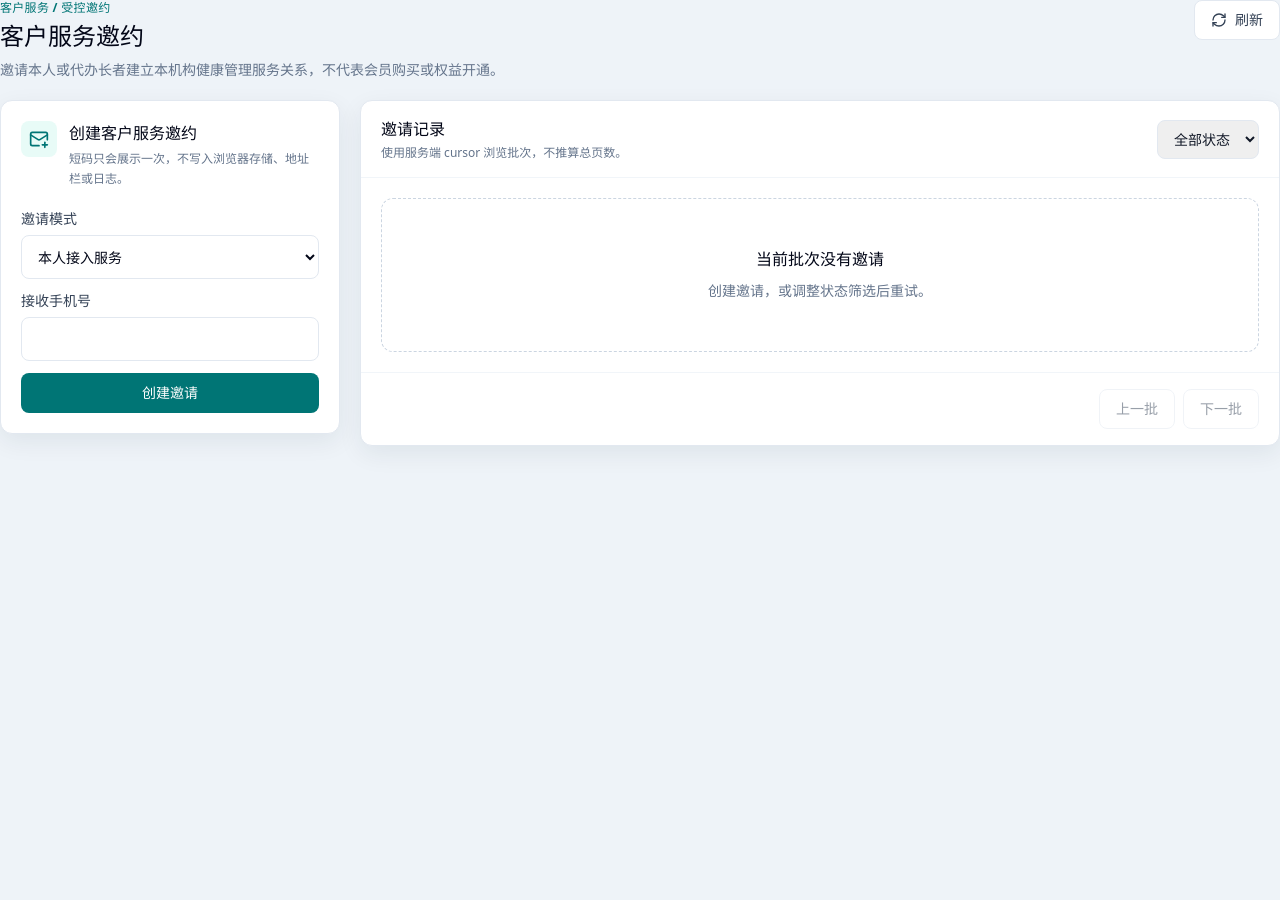
it: 机构客户服务邀约与服务接入 › 创建成功后短码仅在对话框内一次性展示并可用 Escape 清除
Expected: the heading "当前批次没有邀请" is shown, [756,248,884,270]
Type "18800000000" into the field labelled "接收手机号" at (170, 339), box [21,317,319,361]
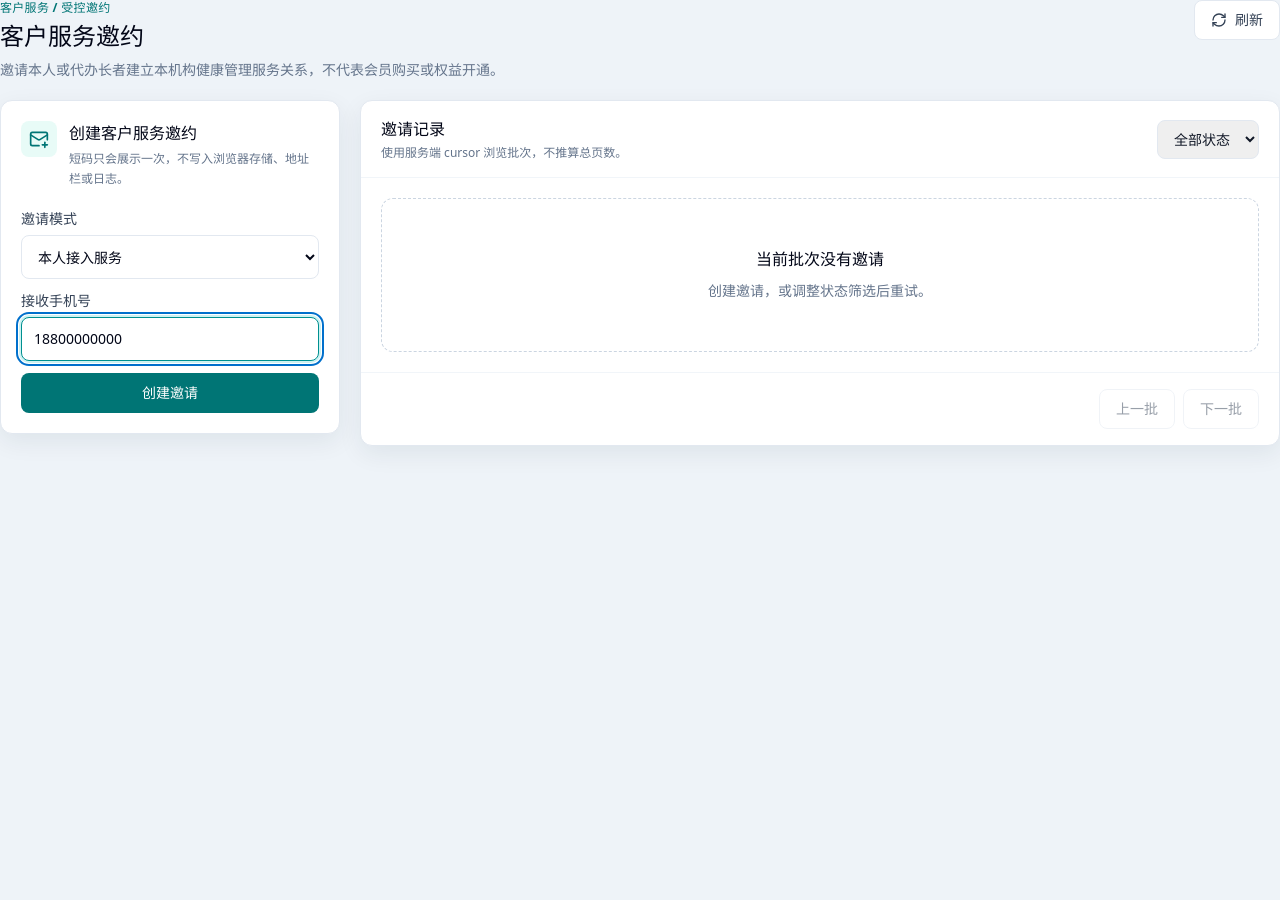
Click the button "创建邀请" at (170, 393), box [21,373,319,413]
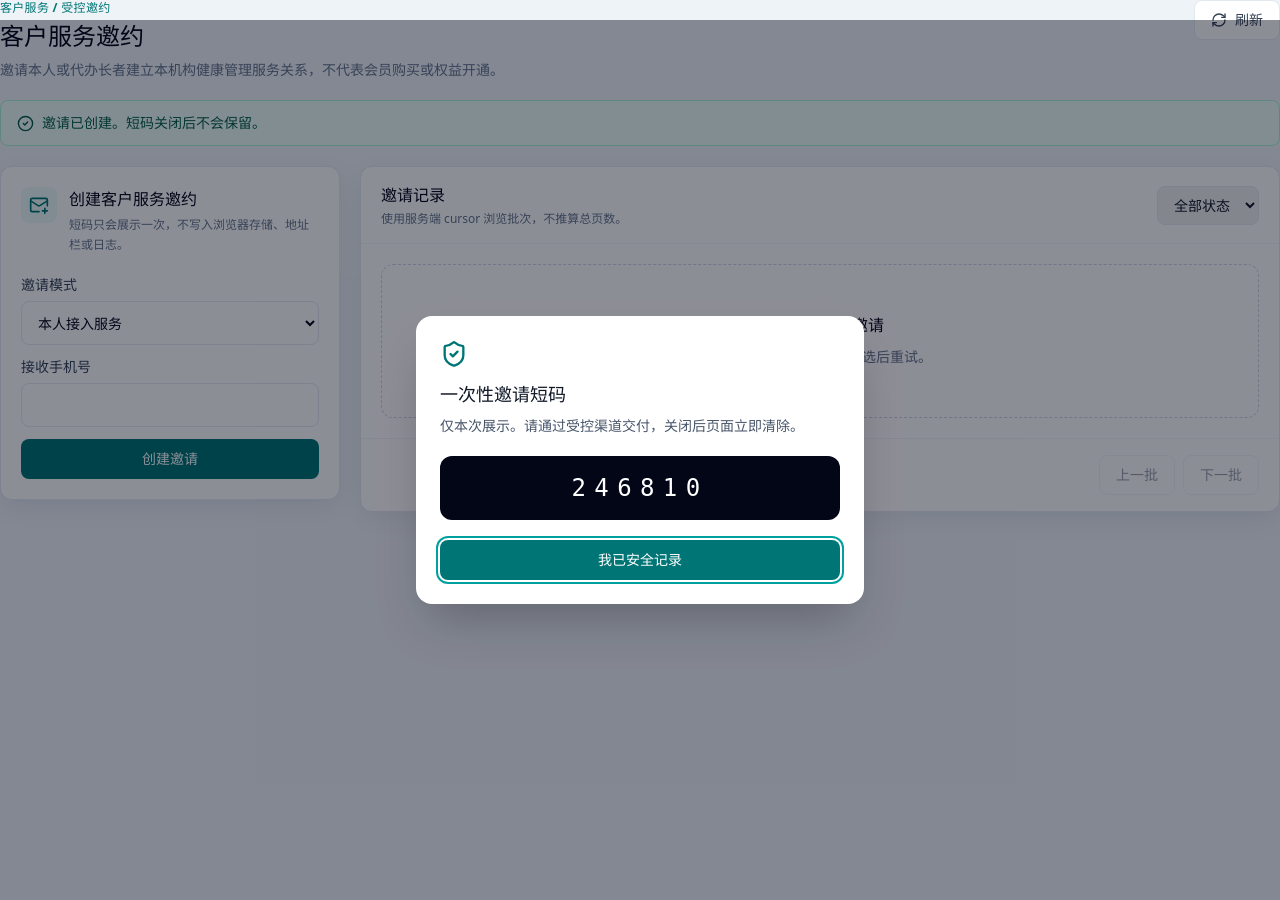
Press Escape
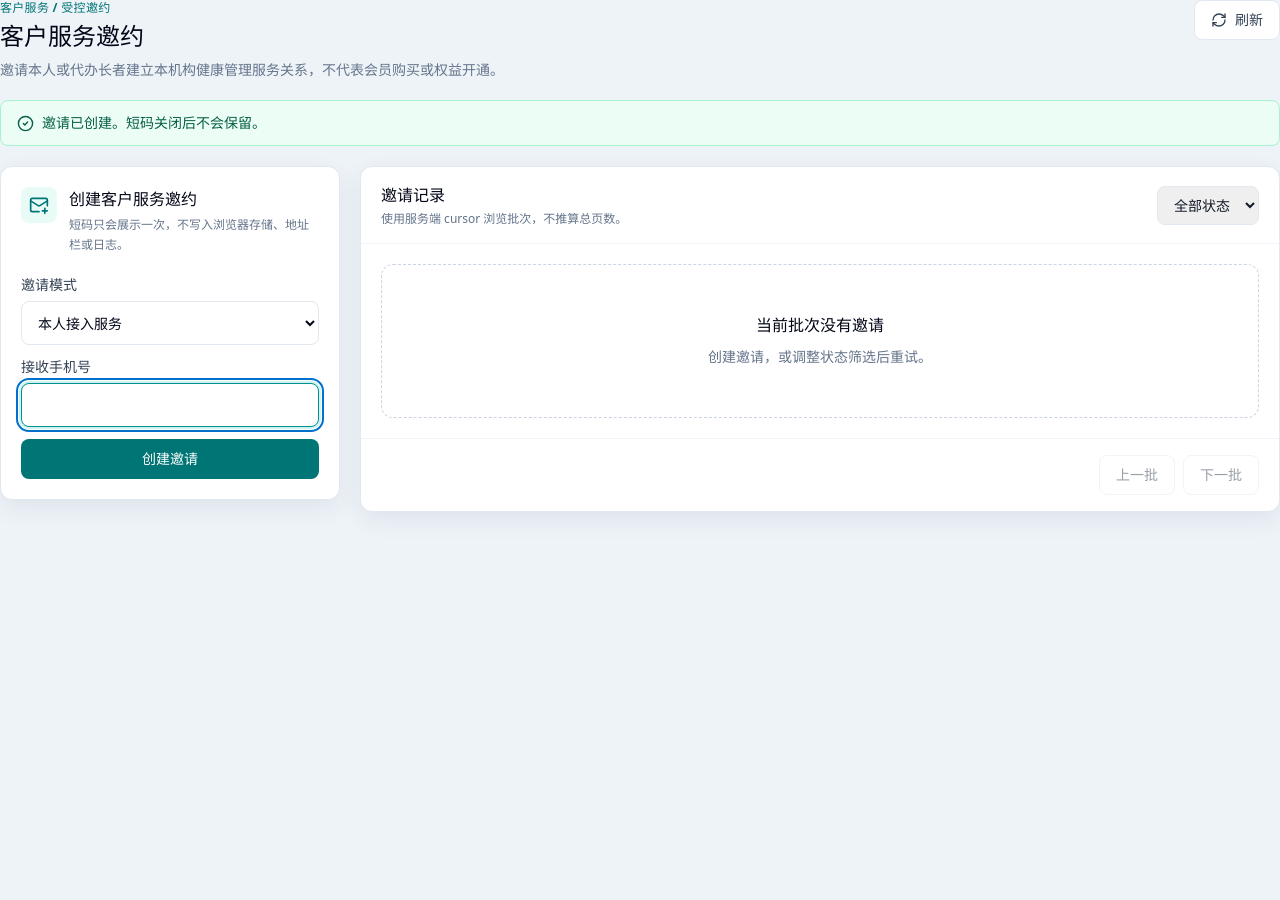
Result: the heading "一次性邀请短码" is gone
